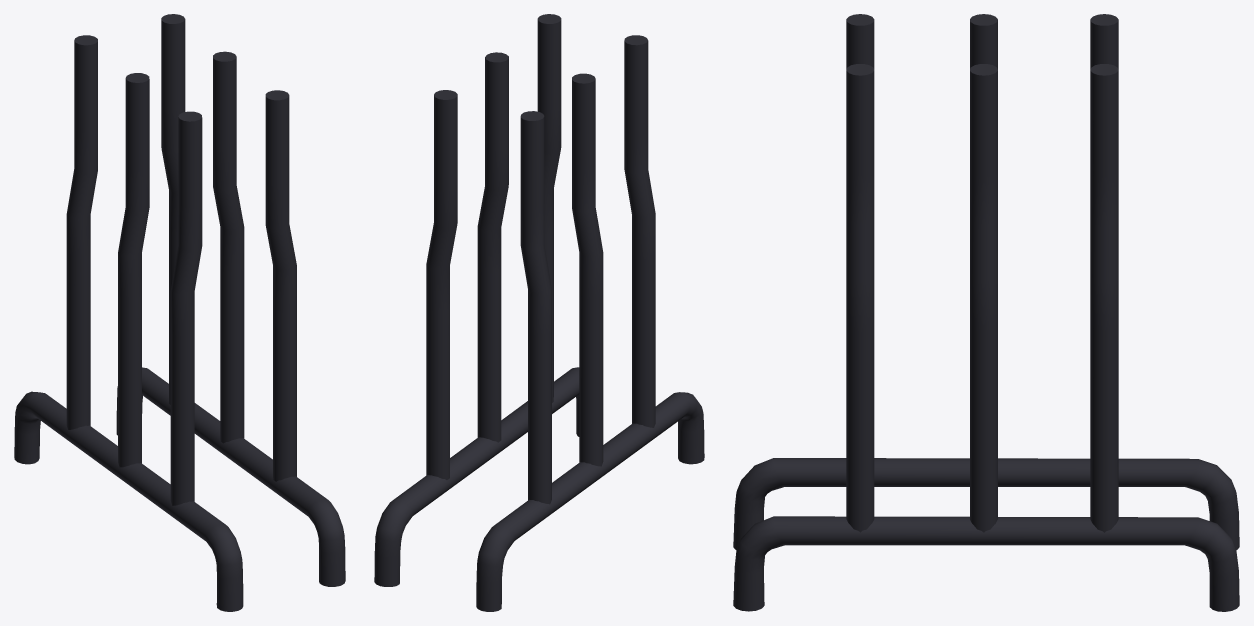
Rendered from Sci_GasLine.fbx.
3 views of the same model, side by side, from view 1: azimuth 30°, elevation 25°; view 2: azimuth 150°, elevation 25°; view 3: azimuth 270°, elevation 25° (orthographic). The views are drawn at different scales.
Parts seen in each view (by area): view 1: Sci_GasLine; view 2: Sci_GasLine; view 3: Sci_GasLine.
Part boxes in pixels (x1,y1,x2,y2): Sci_GasLine: (14,14,345,611); Sci_GasLine: (374,14,704,611); Sci_GasLine: (733,14,1239,611).
Size of the model in its own units: 99.47 by 345 by 297.
